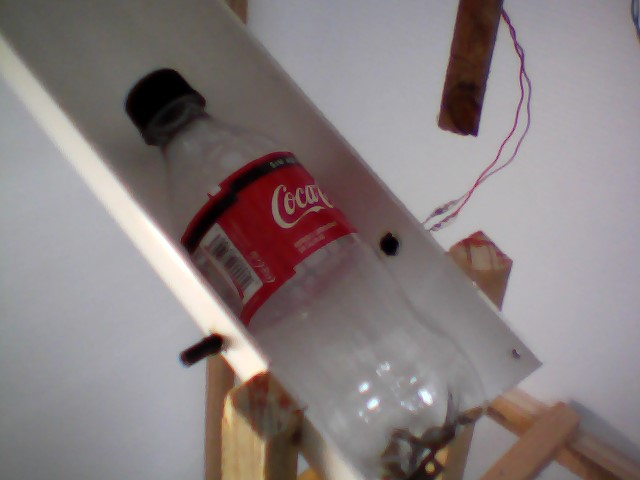plastico: (123, 62, 497, 480)
